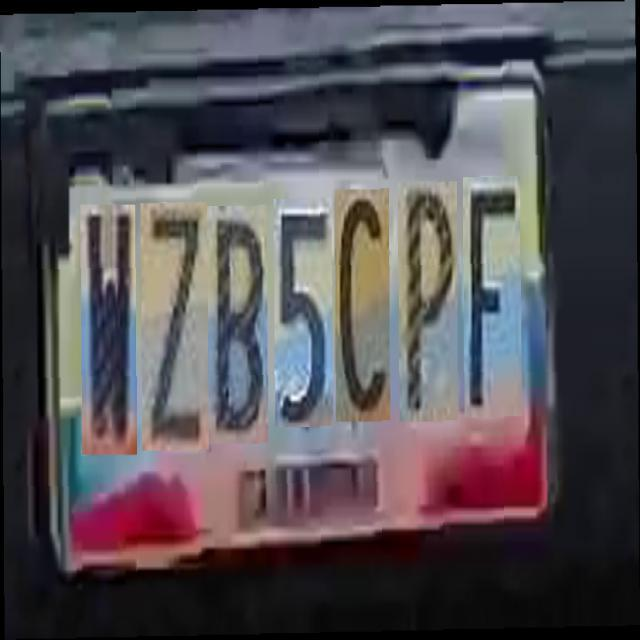5: (273, 192, 331, 420)
B: (206, 198, 266, 436)
C: (334, 184, 388, 416)
F: (462, 174, 520, 415)
P: (398, 178, 456, 418)
W: (80, 194, 134, 444)
Z: (140, 194, 207, 441)
